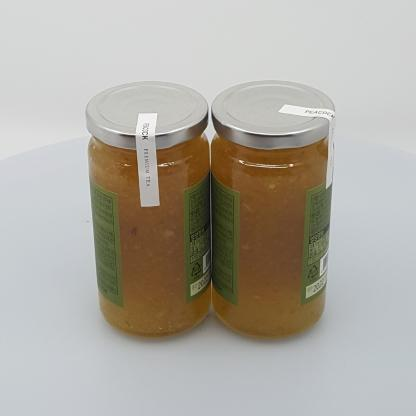------------420G: (209, 80, 336, 339), (85, 81, 212, 338)
